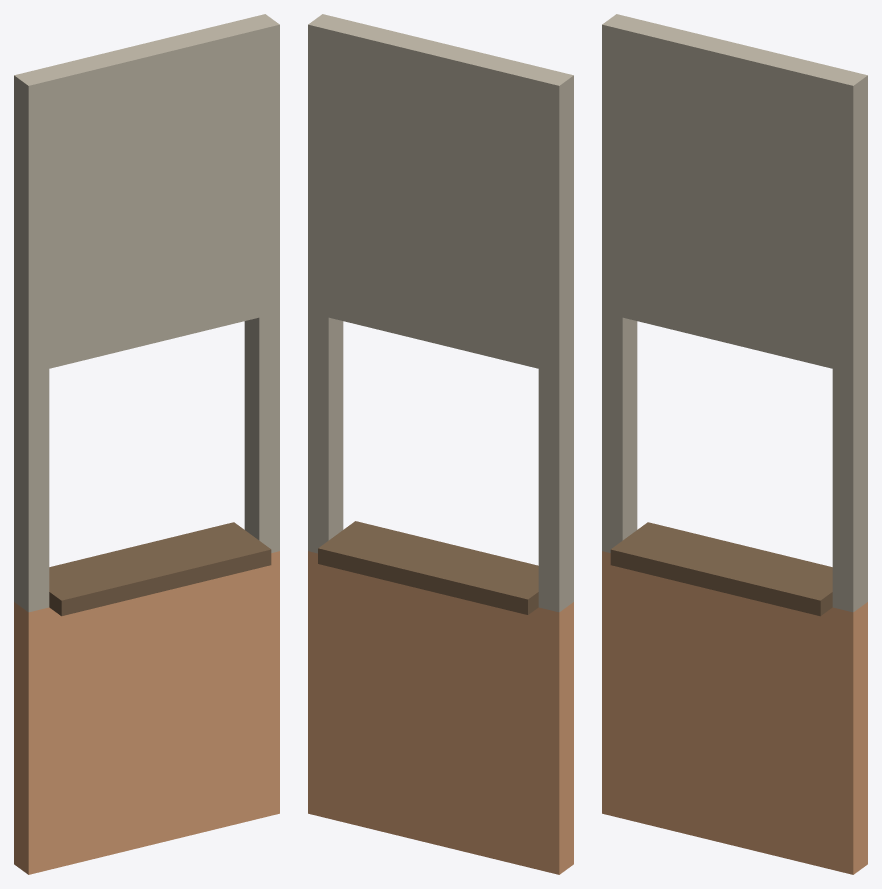
File: Mesh_Wall2Colors_C2.fbx
The picture shows the model from 3 angles, left to right: view 1: azimuth 30°, elevation 25°; view 2: azimuth 150°, elevation 25°; view 3: azimuth 330°, elevation 25°; orthographic projection.
Visible parts, largest first — view 1: Mesh_Wall2Colors_C2; view 2: Mesh_Wall2Colors_C2; view 3: Mesh_Wall2Colors_C2.
Part boxes in pixels (x1,y1,x2,y2): Mesh_Wall2Colors_C2: (14, 14, 279, 874); Mesh_Wall2Colors_C2: (308, 14, 573, 874); Mesh_Wall2Colors_C2: (602, 14, 867, 874).
Bounding box in the file's own units: 1 × 3 × 0.2574.
